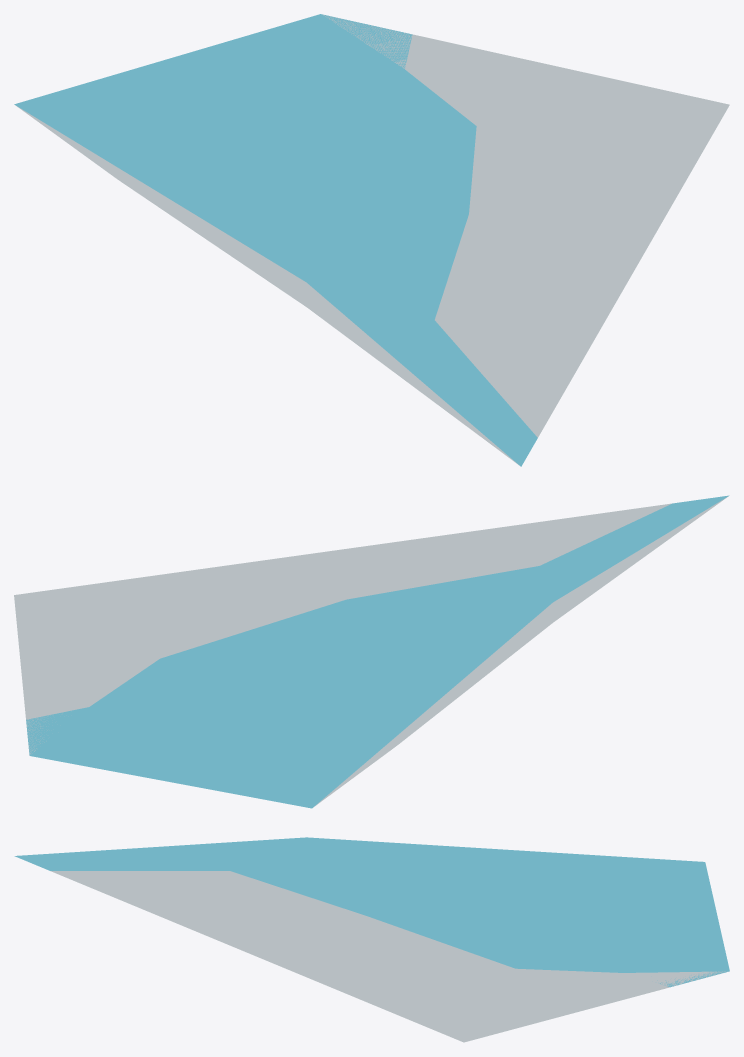
Rendered from su33_surf_BElevatorLFold_fold.gltf.
The picture shows the model from 3 angles, top to bottom: view 1: azimuth 30°, elevation 25°; view 2: azimuth 150°, elevation 25°; view 3: azimuth 270°, elevation 25°; orthographic projection. The views are drawn at different scales.
Visible parts, largest first — view 1: 0_0_#3396bb, 0_1_#bacdd8; view 2: 0_0_#3396bb, 0_1_#bacdd8; view 3: 0_0_#3396bb, 0_1_#bacdd8.
Boxes of the visible parts, box(x1,y1,x2,y2) form: 0_0_#3396bb: box(14, 14, 537, 466); 0_1_#bacdd8: box(16, 14, 729, 465); 0_0_#3396bb: box(26, 495, 729, 808); 0_1_#bacdd8: box(14, 496, 728, 806); 0_0_#3396bb: box(14, 837, 729, 987); 0_1_#bacdd8: box(50, 871, 729, 1042).
Bounding box in the file's own units: 1.27 × 0.0857 × 2.14.
